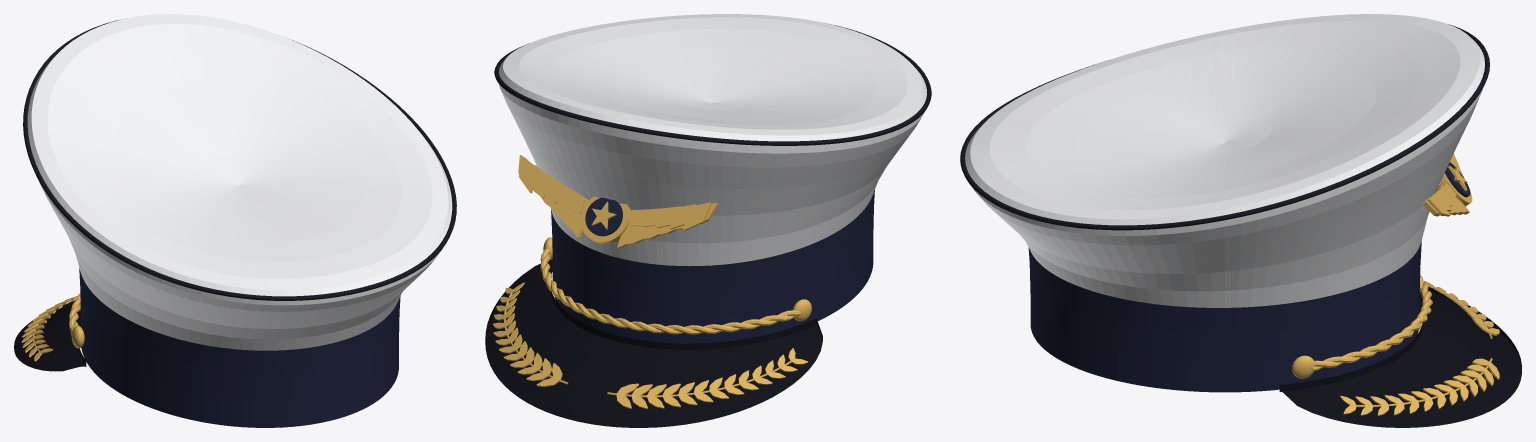
Rendered from Casquette_Pilote.glb.
3 views of the same model, side by side, from view 1: azimuth 30°, elevation 25°; view 2: azimuth 150°, elevation 25°; view 3: azimuth 270°, elevation 25° (orthographic). The views are drawn at different scales.
Visible parts, largest first — view 1: Casquette_Pilote; view 2: Casquette_Pilote; view 3: Casquette_Pilote.
Part boxes in pixels (x1,y1,x2,y2): Casquette_Pilote: (14, 14, 456, 427); Casquette_Pilote: (485, 14, 931, 427); Casquette_Pilote: (960, 14, 1521, 427).
Size of the model in its own units: 0.2674 by 0.2093 by 0.3406.
